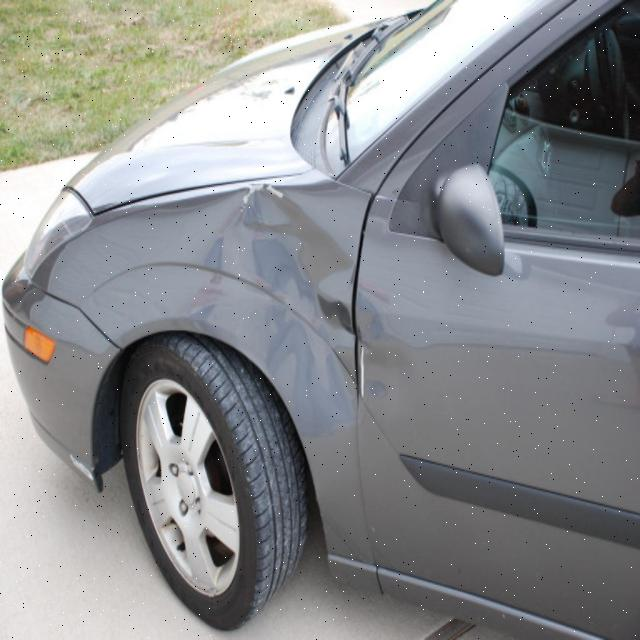damage: (178, 180, 356, 441)
